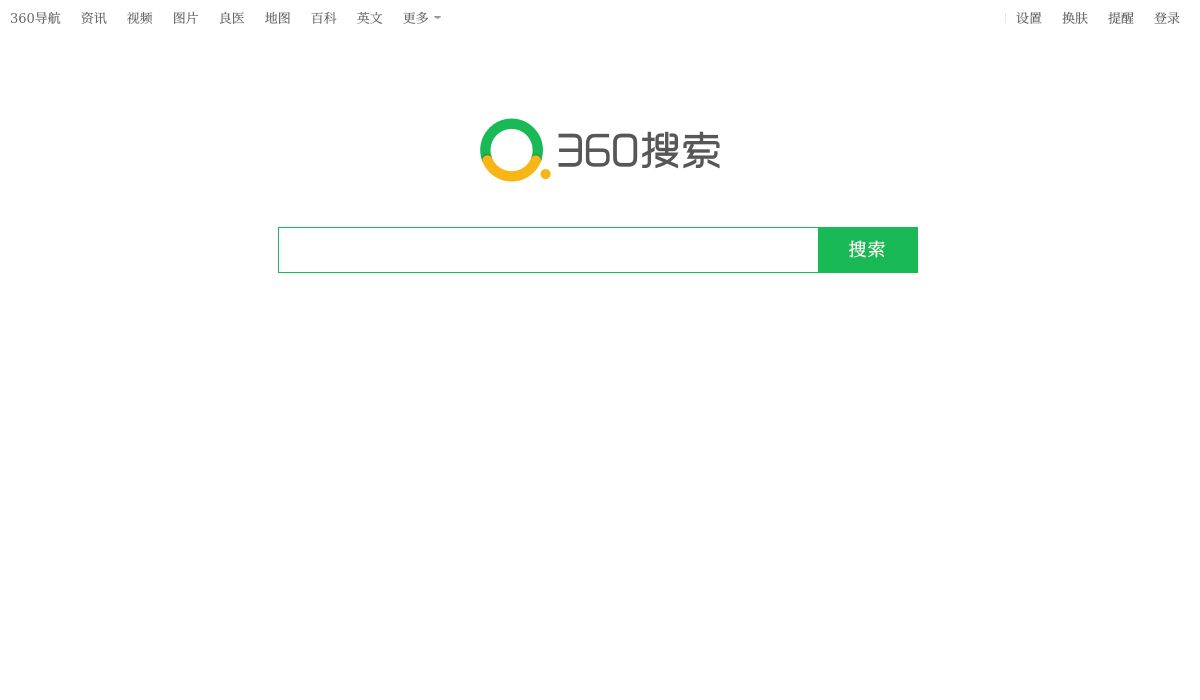menu: (1, 2, 1199, 29)
menu-button: (6, 9, 66, 26), (73, 9, 113, 27), (120, 9, 160, 27), (165, 9, 205, 27), (257, 9, 297, 27), (210, 9, 250, 27), (304, 9, 344, 27), (351, 9, 391, 27), (401, 9, 441, 27), (1010, 9, 1050, 27), (1055, 9, 1095, 27), (1148, 9, 1188, 27), (1104, 9, 1144, 27)
